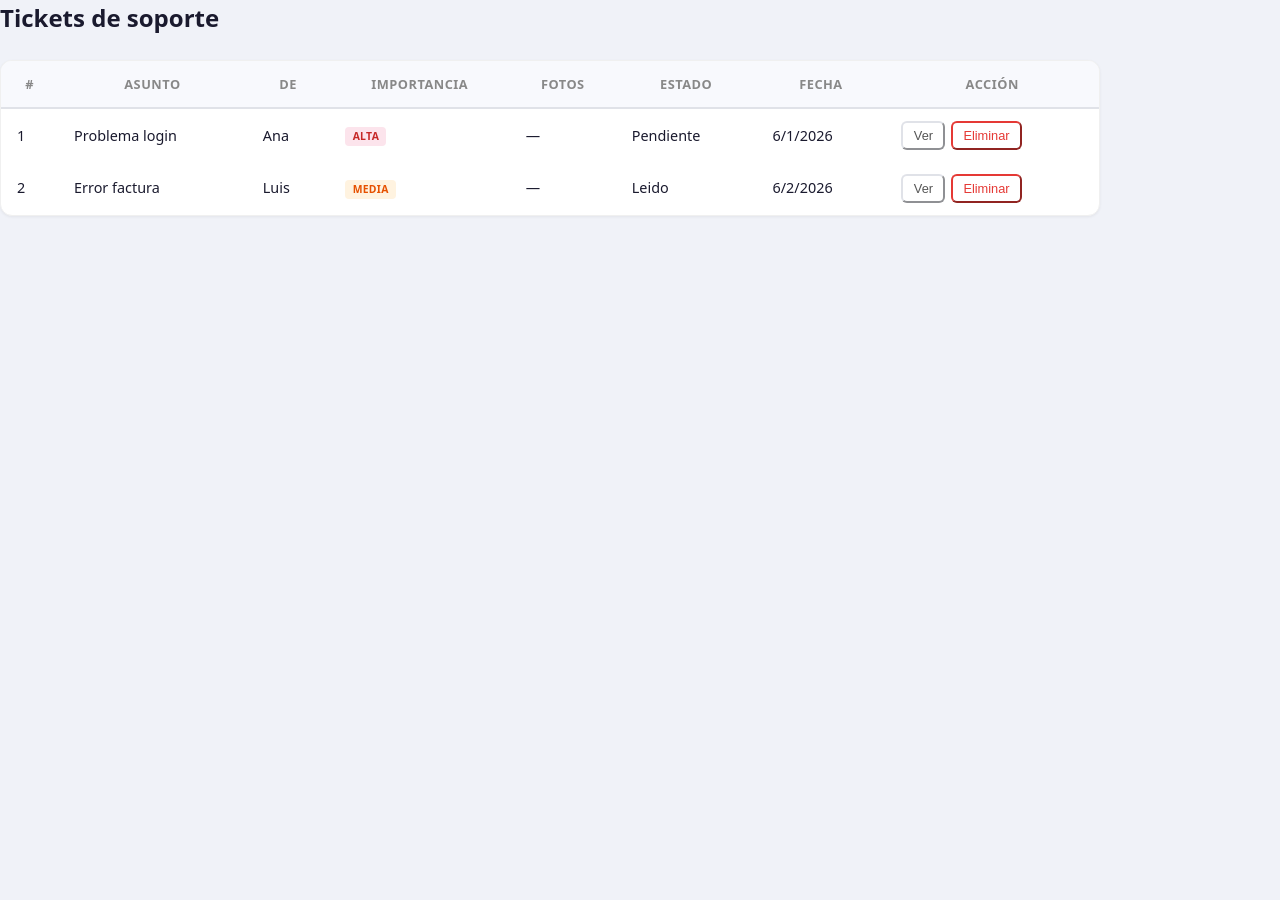
Test case: TicketsAdmin › closes modal via overlay click
expect the text "Problema login" is shown: met, box left=58, top=109, right=247, bottom=162
Click the button "Ver" in the row of "Problema login".
click(923, 136)  # box left=901, top=121, right=945, bottom=150
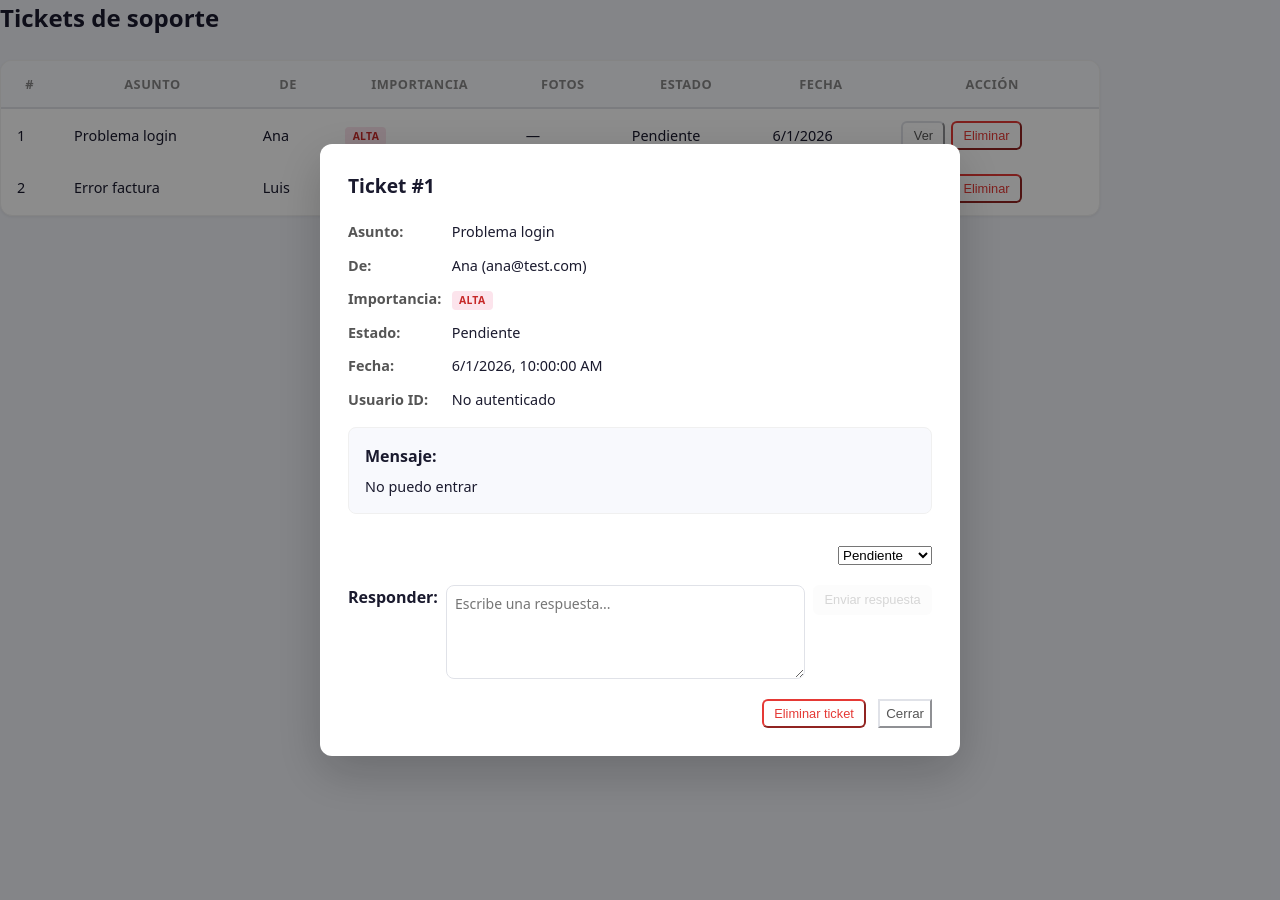
expect the heading "Ticket #1" is shown: met, box left=348, top=172, right=435, bottom=199
Click the button "Cerrar".
click(905, 714)  # box left=878, top=699, right=932, bottom=728
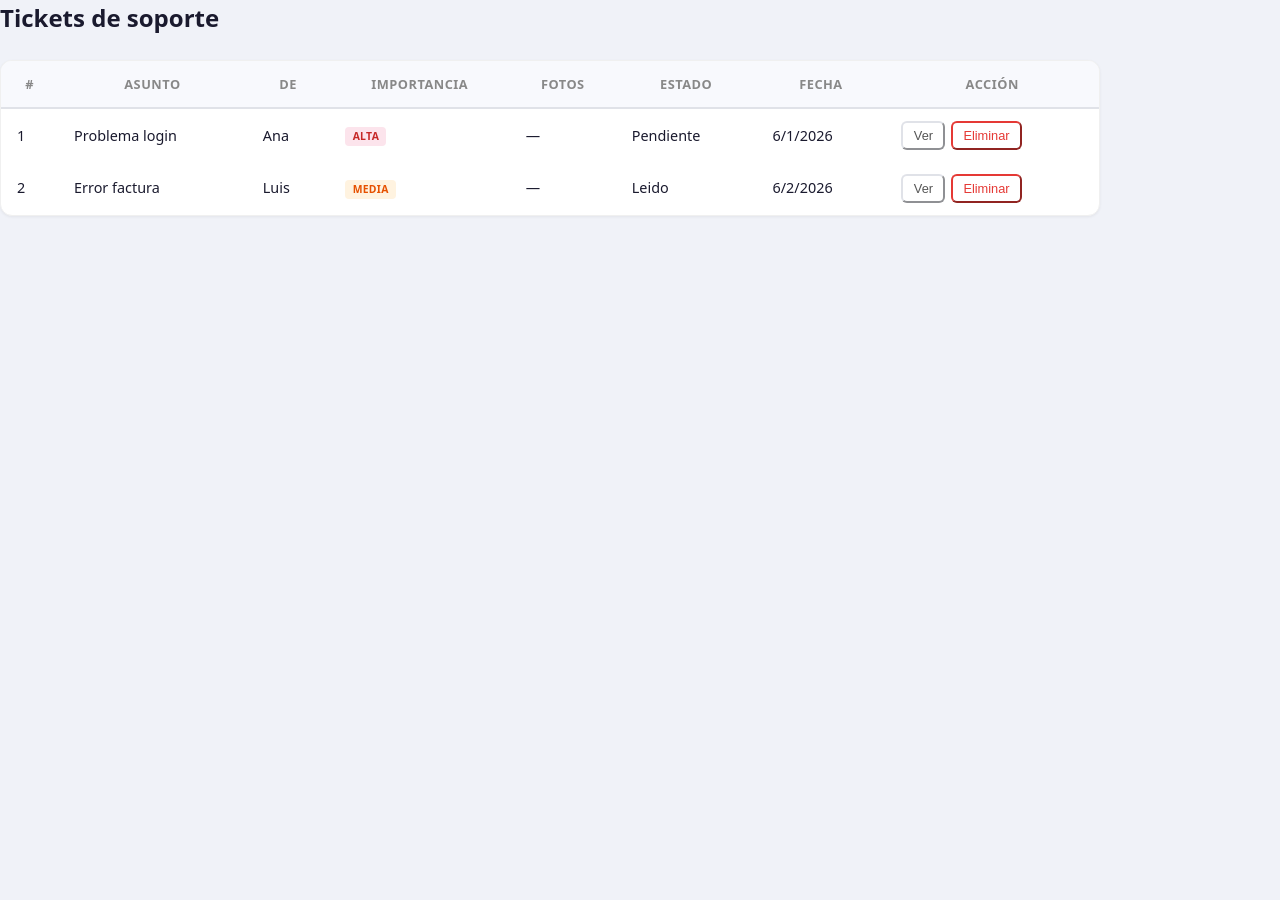
expect the heading "Ticket #1" is gone: met
